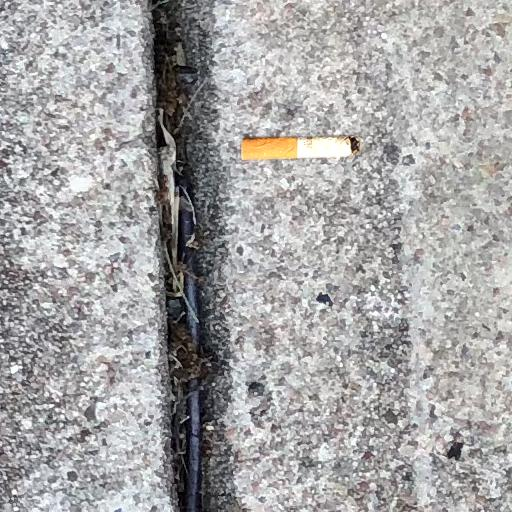smoke: (242, 136, 360, 160)
